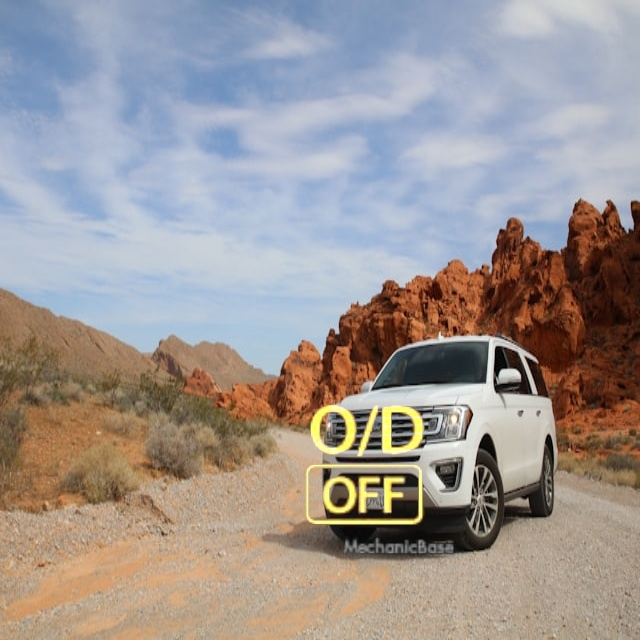symbol: (268, 370, 461, 563)
